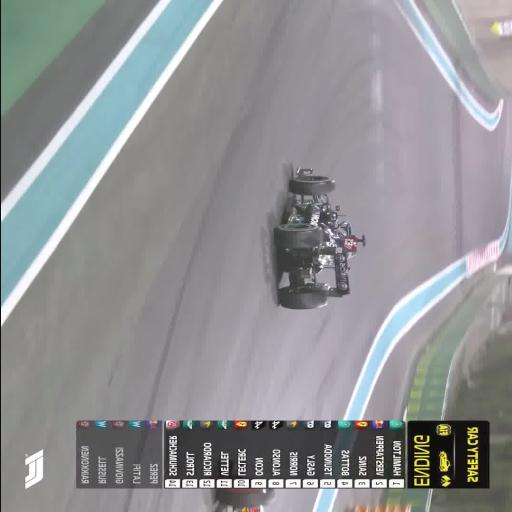f1_car: (274, 168, 365, 309), (216, 489, 274, 512)
